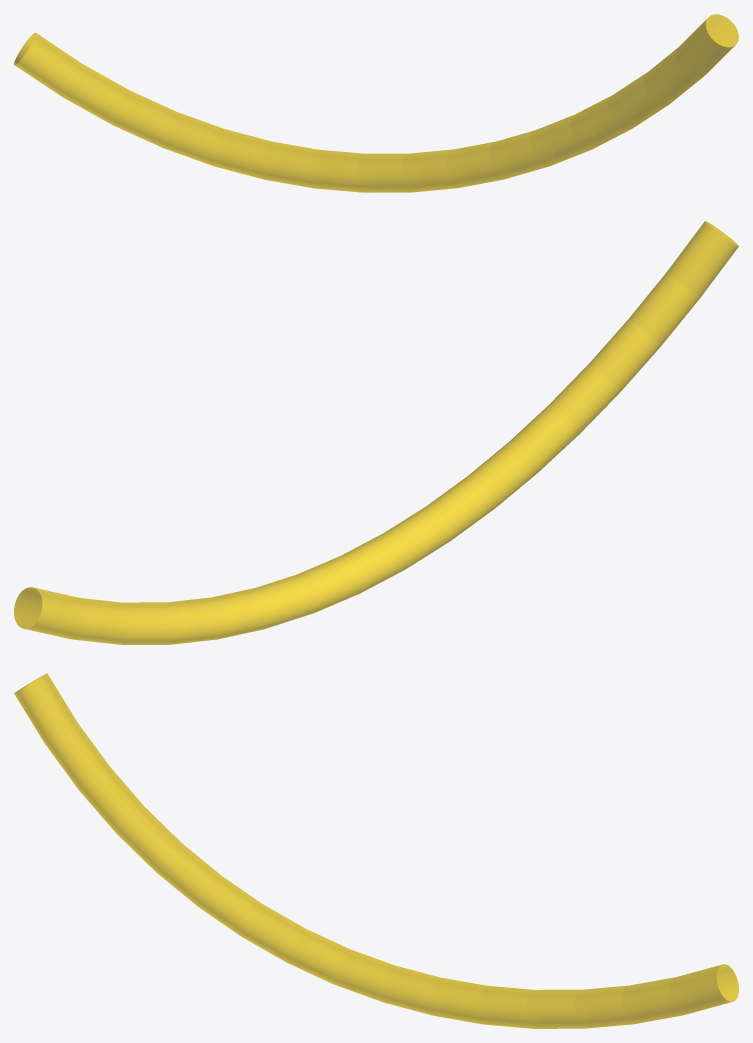
The model's file is Event_27938768_track_53.fbx.
3 views of the same model, one above another, from view 1: azimuth 90°, elevation 25°; view 2: azimuth 150°, elevation 25°; view 3: azimuth 270°, elevation 25° (orthographic). The views are drawn at different scales.
Visible parts, largest first — view 1: Model; view 2: Model; view 3: Model.
Boxes of the visible parts, x1,y1,x2,y2 form: Model: [14, 14, 738, 192]; Model: [14, 221, 738, 644]; Model: [14, 673, 738, 1028].
Bounding box in the file's own units: 0.3785 × 0.2882 × 0.7431.
